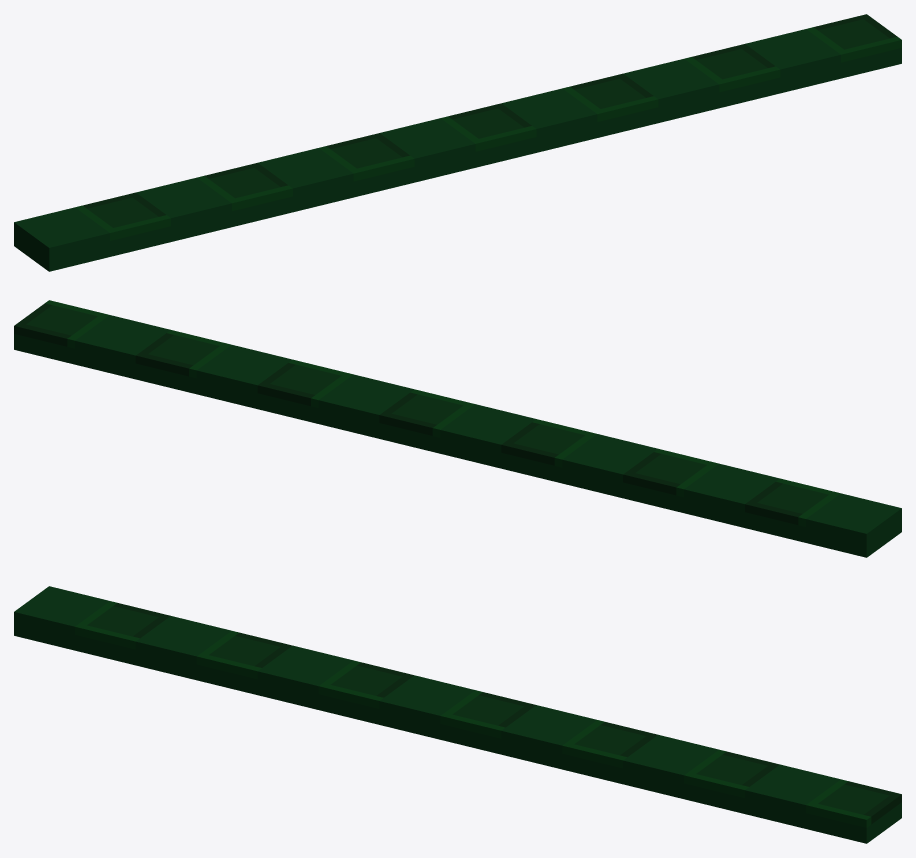
The model's file is BlockL121.obj.
The picture shows the model from 3 angles, top to bottom: view 1: azimuth 30°, elevation 25°; view 2: azimuth 150°, elevation 25°; view 3: azimuth 330°, elevation 25°; orthographic projection.
Size of the model in its own units: 11.2 by 0.3 by 0.8.
Materials: 1 (1 with a texture image).
